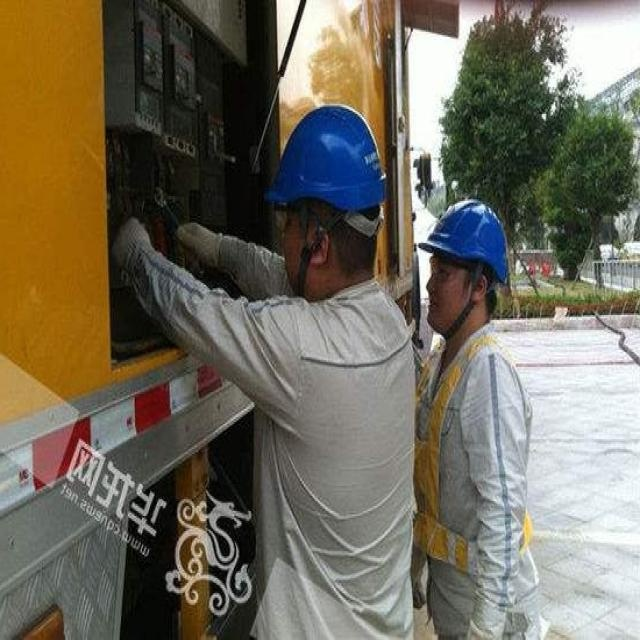Con_Casco: (271, 104, 383, 287), (420, 199, 511, 341)
